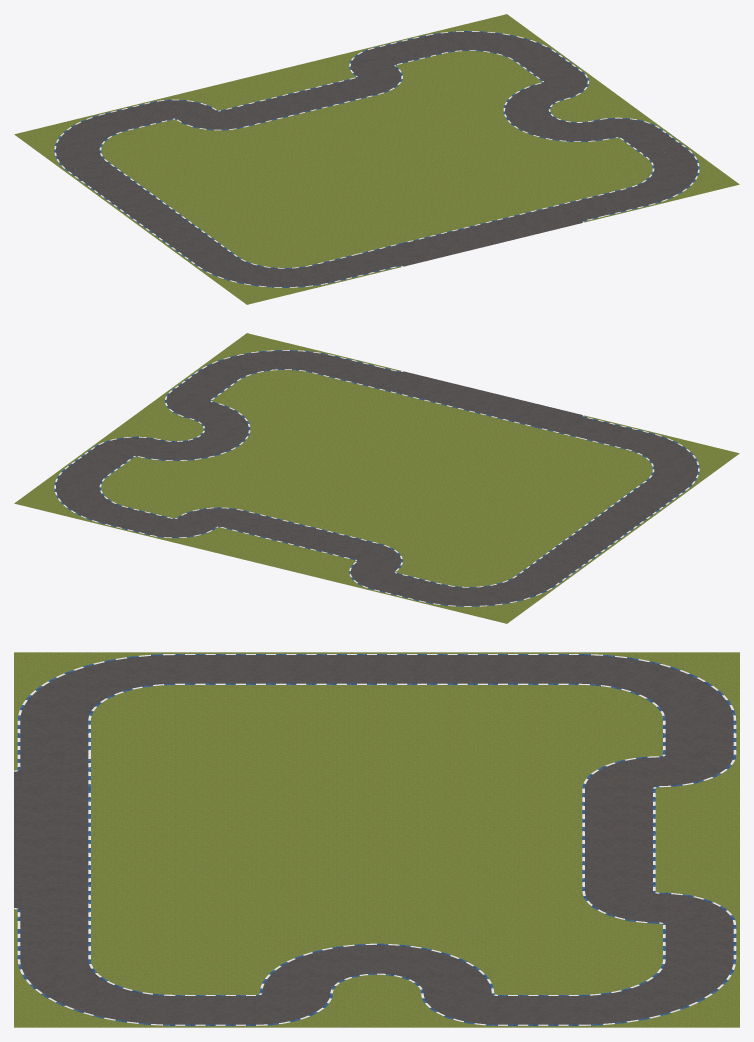
Rendered from Track_02.glb.
3 views of the same model, one above another, from view 1: azimuth 30°, elevation 25°; view 2: azimuth 150°, elevation 25°; view 3: azimuth 270°, elevation 25° (orthographic). The views are drawn at different scales.
Visible parts, largest first — view 1: Forest_mod04_turn180.006, Forest_mod03_turn90_big.004, Forest_mod03_turn90_big.005, Forest_mod03_turn90_big.006, Forest_mod03_turn90_big.007, Forest_mod00_empty.051, Forest_mod00_empty.037, Forest_mod00_empty.038, Forest_mod00_empty.043, Forest_mod00_empty.044, Forest_mod00_empty.028, Forest_mod00_empty.030 (+70 smaller); view 2: Forest_mod04_turn180.006, Forest_mod03_turn90_big.006, Forest_mod03_turn90_big.007, Forest_mod03_turn90_big.004, Forest_mod03_turn90_big.005, Forest_mod00_empty.053, Seaside_mod01_straight.003, Forest_mod00_empty.040, Forest_mod00_empty.041, Forest_mod00_empty.046, Forest_mod00_empty.047, Forest_mod00_empty.028 (+70 smaller); view 3: Forest_mod04_turn180.006, Forest_mod03_turn90_big.004, Forest_mod03_turn90_big.005, Forest_mod03_turn90_big.006, Forest_mod03_turn90_big.007, Forest_mod00_empty.050, Forest_mod01_straight.034, Forest_mod00_empty.026, Forest_mod00_empty.032, Forest_mod00_empty.039, Forest_mod00_empty.040, Forest_mod00_empty.044 (+70 smaller).
Boxes of the visible parts, <box> form: Forest_mod04_turn180.006: <box>450,82,616,160</box>; Forest_mod03_turn90_big.004: <box>418,14,558,73</box>; Forest_mod03_turn90_big.005: <box>195,245,335,304</box>; Forest_mod03_turn90_big.006: <box>599,147,739,206</box>; Forest_mod03_turn90_big.007: <box>14,112,154,171</box>; Forest_mod00_empty.051: <box>181,158,251,188</box>; Forest_mod00_empty.037: <box>424,74,494,103</box>; Forest_mod00_empty.038: <box>469,63,539,92</box>; Forest_mod00_empty.043: <box>464,190,534,220</box>; Forest_mod00_empty.044: <box>509,179,579,209</box>; Forest_mod00_empty.028: <box>238,69,308,98</box>; Forest_mod00_empty.030: <box>226,147,296,177</box>; Forest_mod04_turn180.006: <box>137,401,303,479</box>; Forest_mod03_turn90_big.006: <box>195,333,335,392</box>; Forest_mod03_turn90_big.007: <box>418,564,558,623</box>; Forest_mod03_turn90_big.004: <box>14,466,154,525</box>; Forest_mod03_turn90_big.005: <box>599,431,739,490</box>; Forest_mod00_empty.053: <box>502,477,572,507</box>; Seaside_mod01_straight.003: <box>445,388,515,417</box>; Forest_mod00_empty.040: <box>509,428,579,458</box>; Forest_mod00_empty.041: <box>464,417,534,447</box>; Forest_mod00_empty.046: <box>259,393,329,422</box>; Forest_mod00_empty.047: <box>214,382,284,411</box>; Forest_mod00_empty.028: <box>238,539,308,568</box>; Forest_mod04_turn180.006: <box>256,925,497,993</box>; Forest_mod03_turn90_big.004: <box>578,959,739,1027</box>; Forest_mod03_turn90_big.005: <box>14,652,175,720</box>; Forest_mod03_turn90_big.006: <box>14,959,175,1027</box>; Forest_mod03_turn90_big.007: <box>578,652,739,720</box>; Forest_mod00_empty.050: <box>336,993,417,1027</box>; Forest_mod01_straight.034: <box>336,652,417,686</box>; Forest_mod00_empty.026: <box>578,720,659,754</box>; Forest_mod00_empty.032: <box>578,925,659,959</box>; Forest_mod00_empty.039: <box>94,720,175,754</box>; Forest_mod00_empty.040: <box>94,754,175,788</box>; Forest_mod00_empty.044: <box>94,891,175,925</box>.
Size of the model in its own units: 176 by 0.03 by 144.
6 materials, 6 textured.
